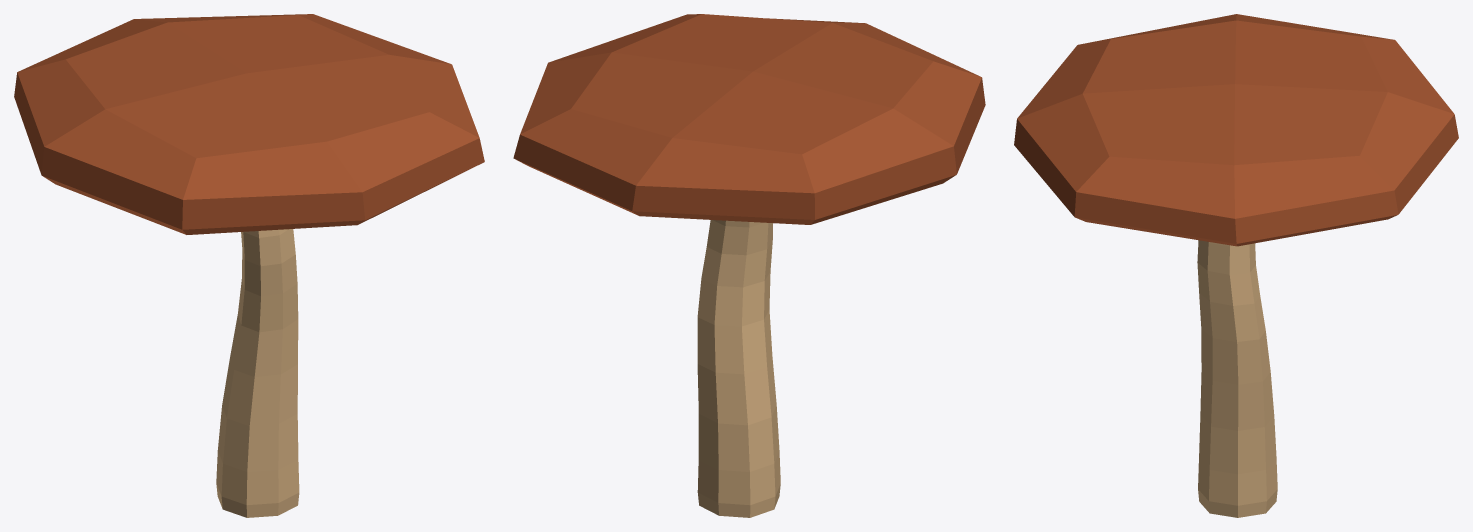
File: Brownshroom.fbx
3 renders of one model, left to right at view 1: azimuth 30°, elevation 25°; view 2: azimuth 150°, elevation 25°; view 3: azimuth 270°, elevation 25°, orthographic. The views are drawn at different scales.
Visible parts, largest first — view 1: Cube.001, Cube; view 2: Cube.001, Cube; view 3: Cube.001, Cube.
Boxes of the visible parts, <box> form: Cube.001: <box>14,14,484,234</box>; Cube: <box>216,229,299,517</box>; Cube.001: <box>513,14,985,224</box>; Cube: <box>697,220,780,517</box>; Cube.001: <box>1014,14,1458,246</box>; Cube: <box>1197,240,1277,517</box>.
Bounding box in the file's own units: 1038 × 1036 × 1010.
